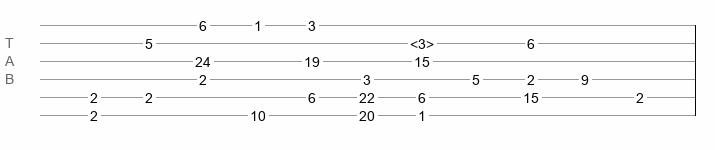1: (254, 18, 262, 28), (418, 108, 426, 118)
10: (250, 108, 266, 118)
15: (414, 54, 430, 64), (523, 90, 539, 100)
19: (304, 54, 320, 64)
2: (90, 108, 98, 118), (90, 90, 98, 100), (145, 90, 153, 100), (199, 72, 207, 82), (527, 72, 535, 82), (636, 90, 644, 100)
20: (359, 108, 375, 118)
22: (359, 90, 375, 100)
24: (195, 54, 211, 64)
3: (308, 18, 316, 28), (363, 72, 371, 82)
5: (145, 36, 153, 46), (472, 72, 480, 82)
6: (199, 18, 207, 28), (308, 90, 316, 100), (418, 90, 426, 100), (527, 36, 535, 46)
9: (581, 72, 589, 82)
harmonic: (410, 36, 434, 46)
